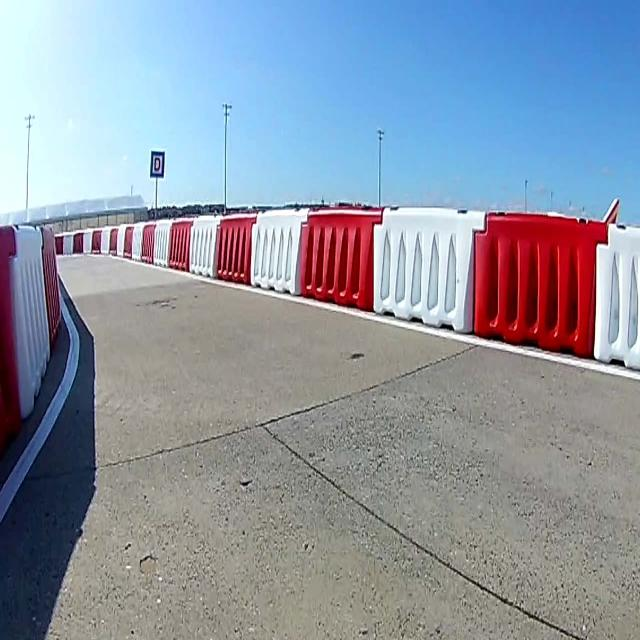durak: (151, 152, 164, 179)
